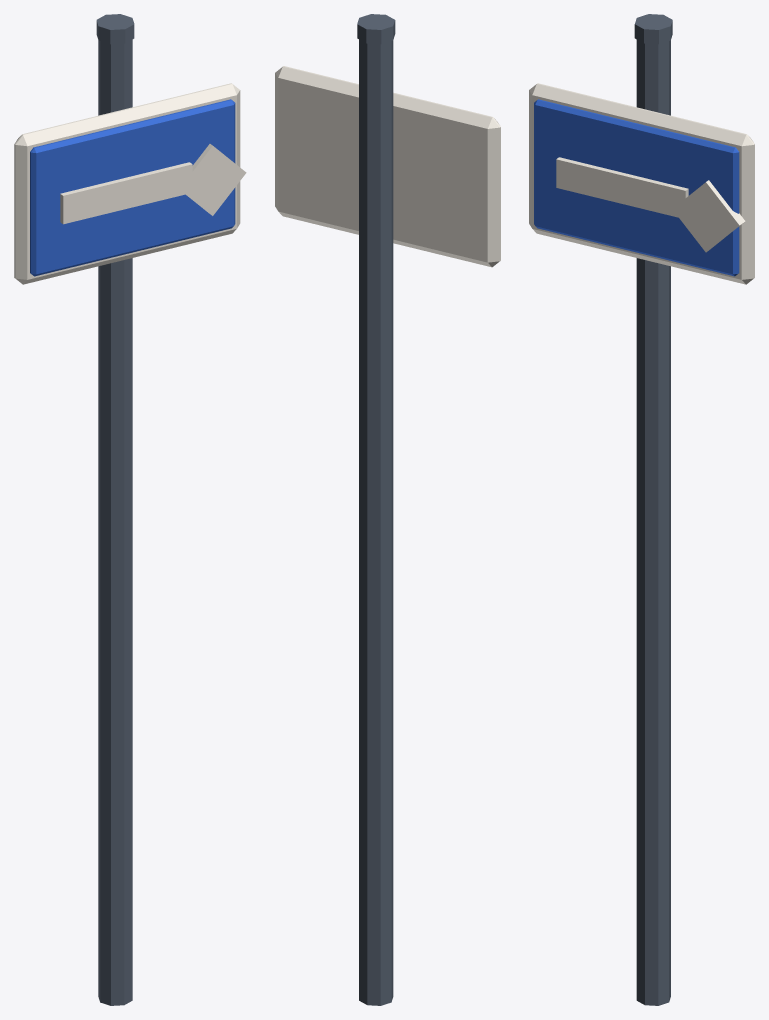
File: sign_post.glb
The picture shows the model from 3 angles, left to right: view 1: azimuth 30°, elevation 25°; view 2: azimuth 150°, elevation 25°; view 3: azimuth 330°, elevation 25°; orthographic projection.
Visible parts, largest first — view 1: sign_post; view 2: sign_post; view 3: sign_post.
Part boxes in pixels (<box>): sign_post: <box>14,14,246,1005</box>; sign_post: <box>275,14,500,1005</box>; sign_post: <box>529,14,754,1005</box>.
Bounding box in the file's own units: 0.66 × 2.74 × 0.165.
Materials: 1 (1 with a texture image).
